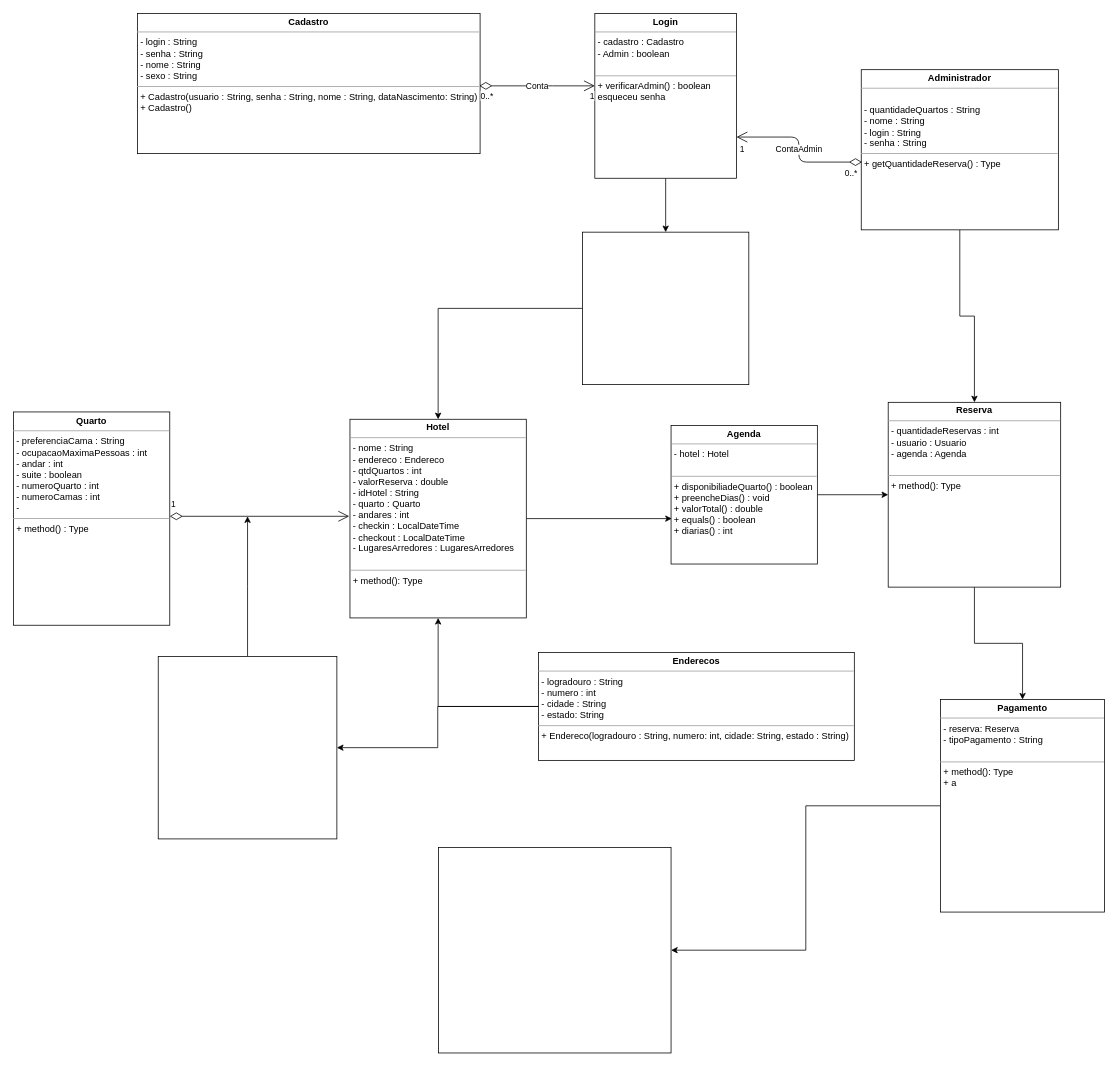
Some shapes in this 1118 by 1066 pixel diagram are drawn without their labels. Each missing label, with the centre of its shape:
"LugaresArredores - nomeDoLugar : String - tipoDoLugar : String + method(): Type" goes at (x=247, y=747).
"Relatorio - pagamento : Pagemento + relatorioIntervalo() : String" goes at (x=554, y=950).
"Usuario - cadastro : Cadastro perfil + method(): Type" goes at (x=665, y=308).
